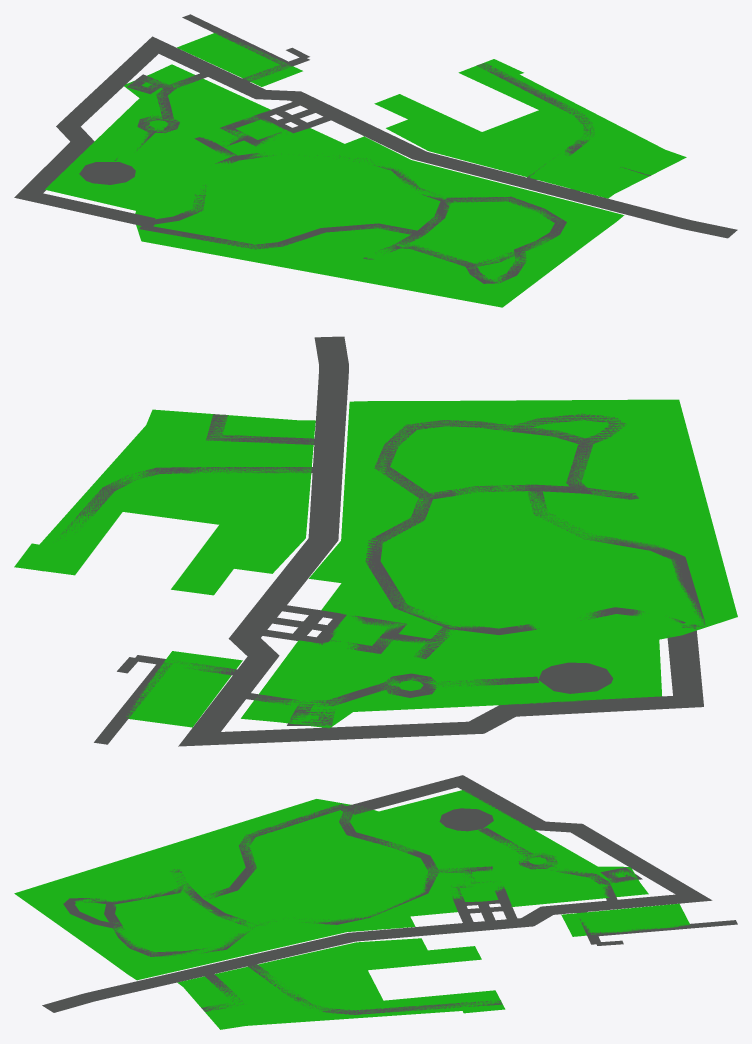
Rendered from did_Park_Mesh_test.fbx.
3 views of the same model, one above another, from view 1: azimuth 30°, elevation 25°; view 2: azimuth 150°, elevation 25°; view 3: azimuth 270°, elevation 25° (orthographic). The views are drawn at different scales.
Visible parts, largest first — view 1: grass, roads; view 2: grass, roads; view 3: grass, roads.
Part boxes in pixels (left/top/right/bottom): grass: left=45, top=33, right=686, bottom=307; roads: left=14, top=14, right=737, bottom=283; grass: left=14, top=399, right=737, bottom=728; roads: left=40, top=336, right=706, bottom=746; grass: left=14, top=790, right=690, bottom=1029; roads: left=42, top=775, right=737, bottom=1014.
Bounding box in the file's own units: 11069 × 0 × 13290.
